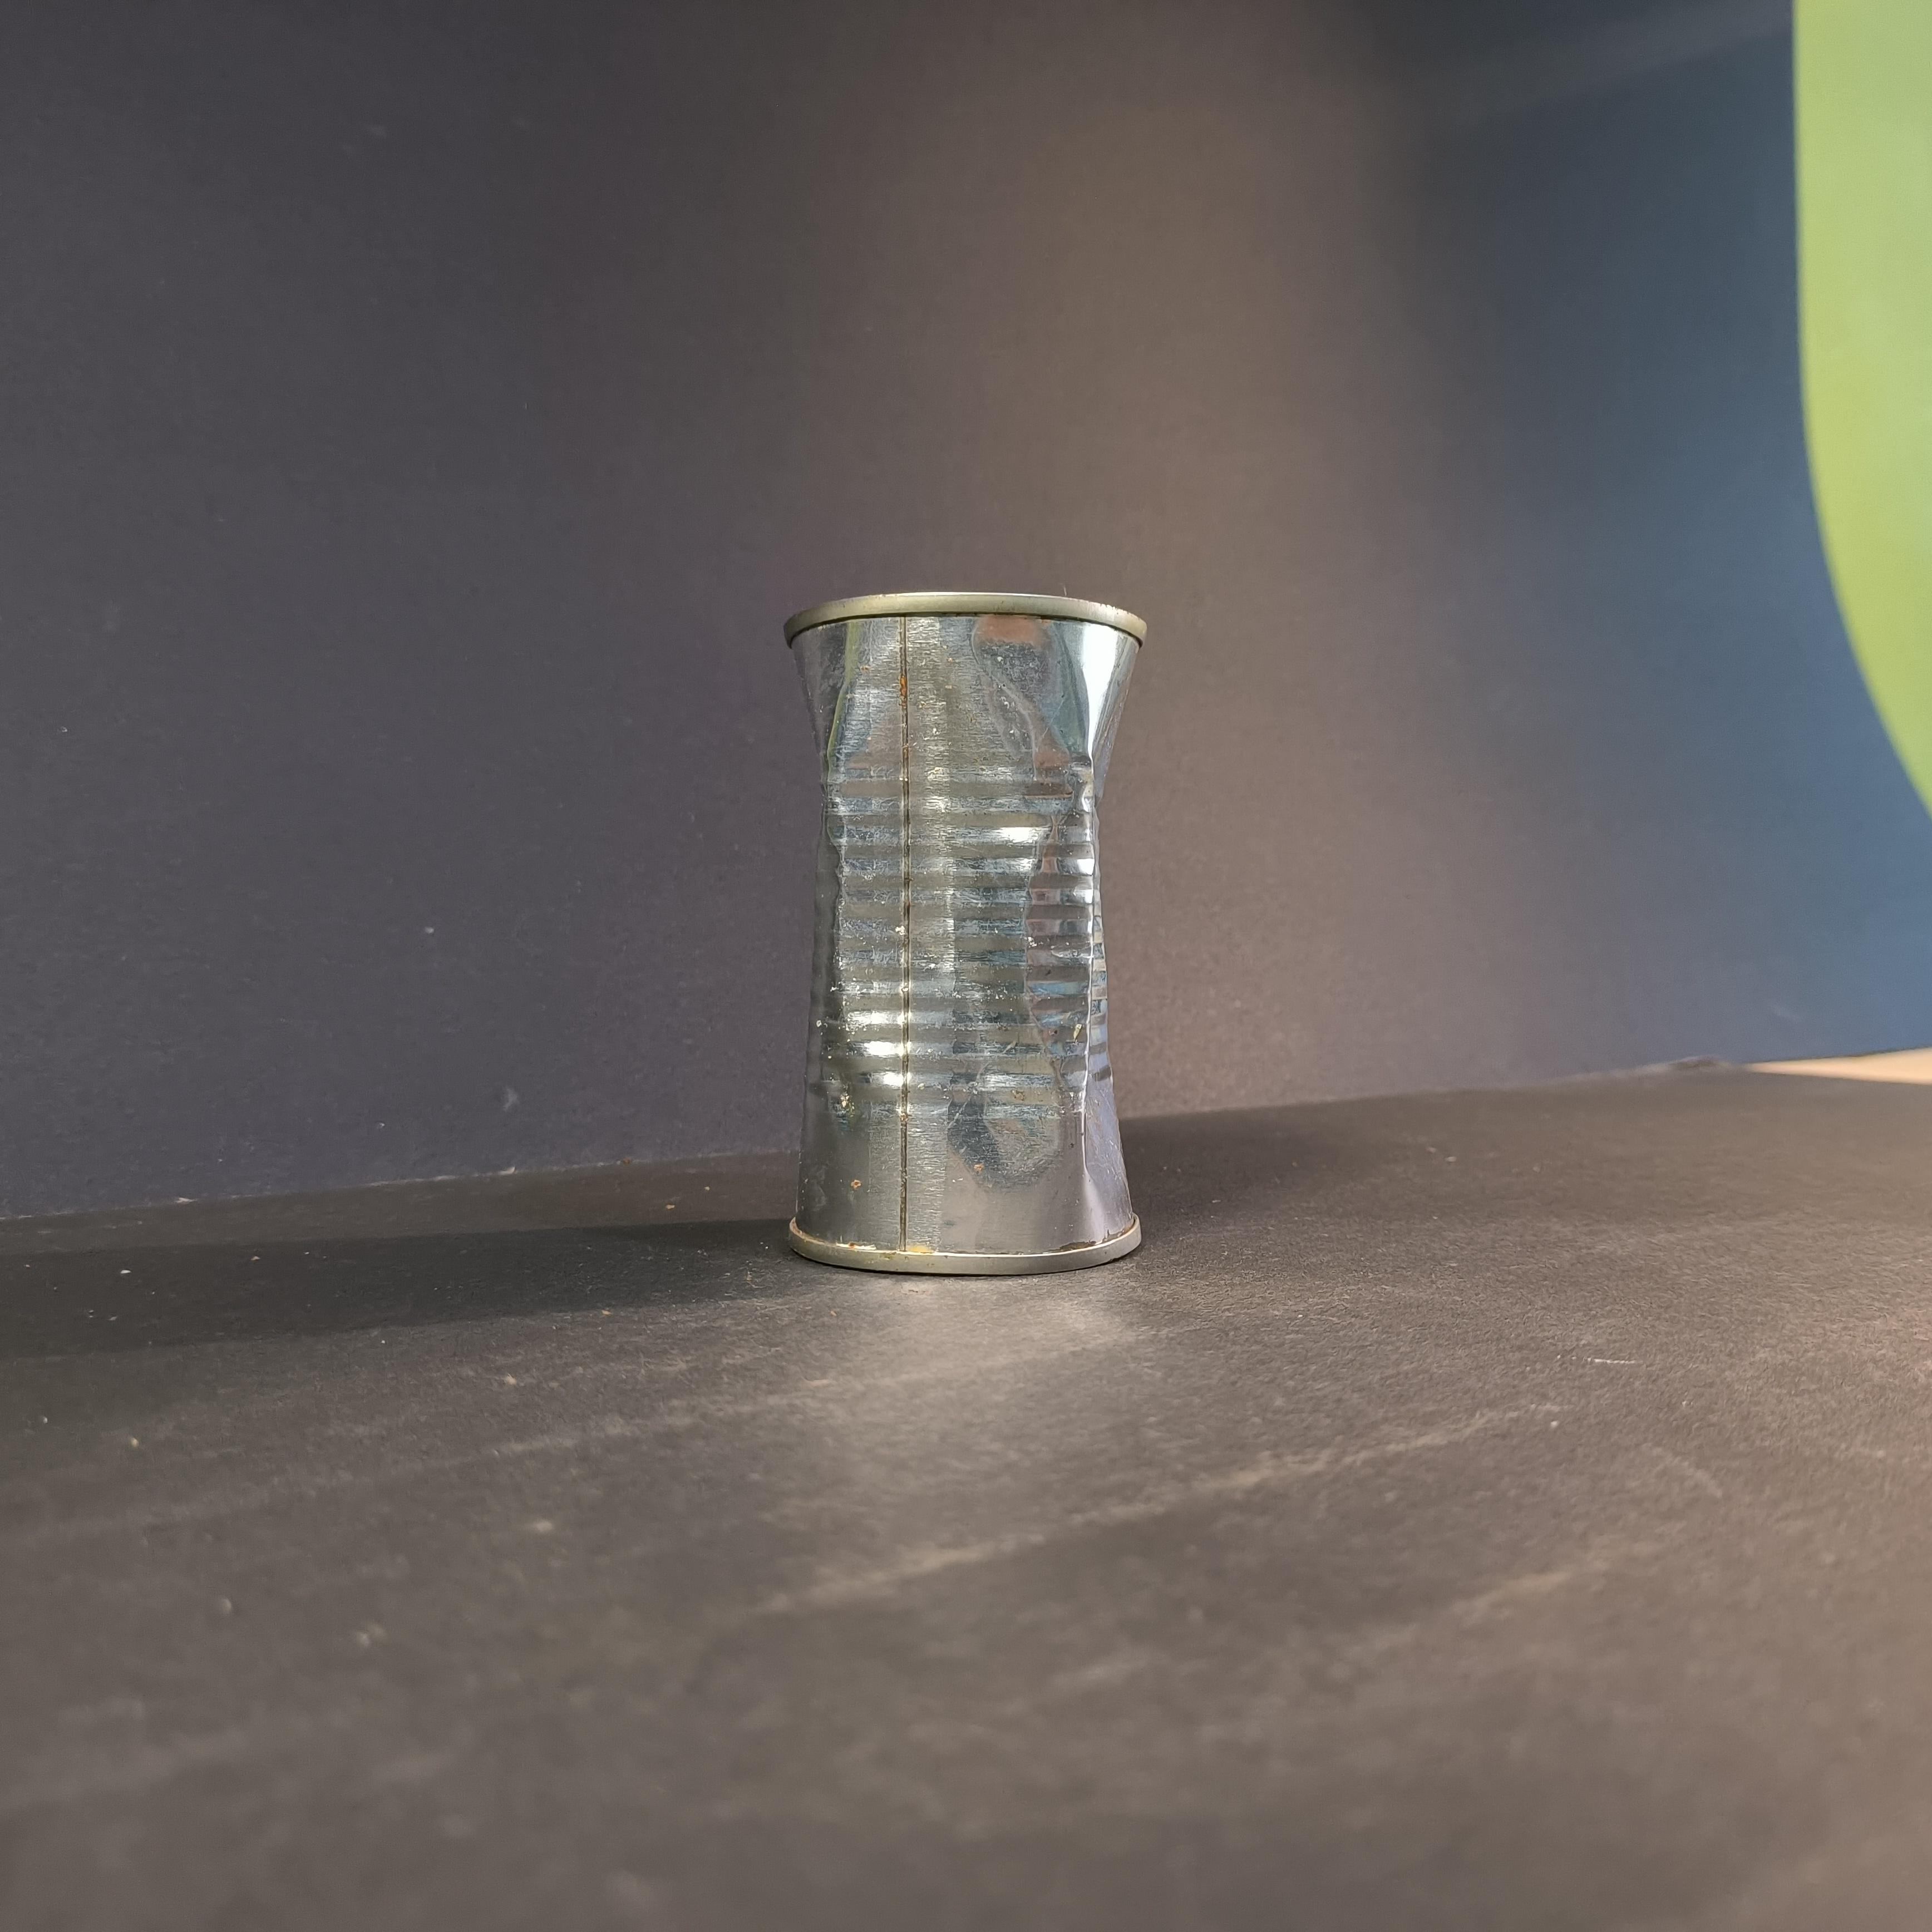Dented: (771, 563, 1187, 1267)
